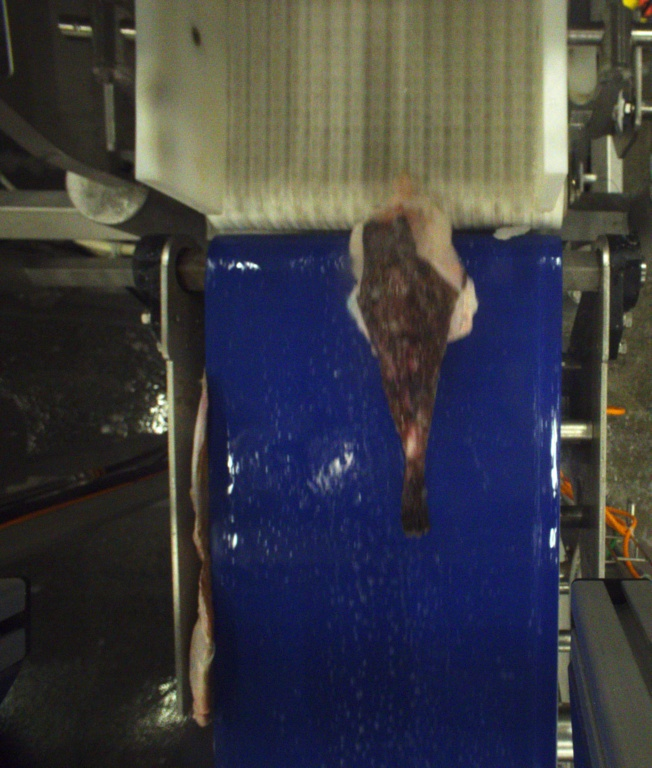ANF: (349, 173, 478, 531)
